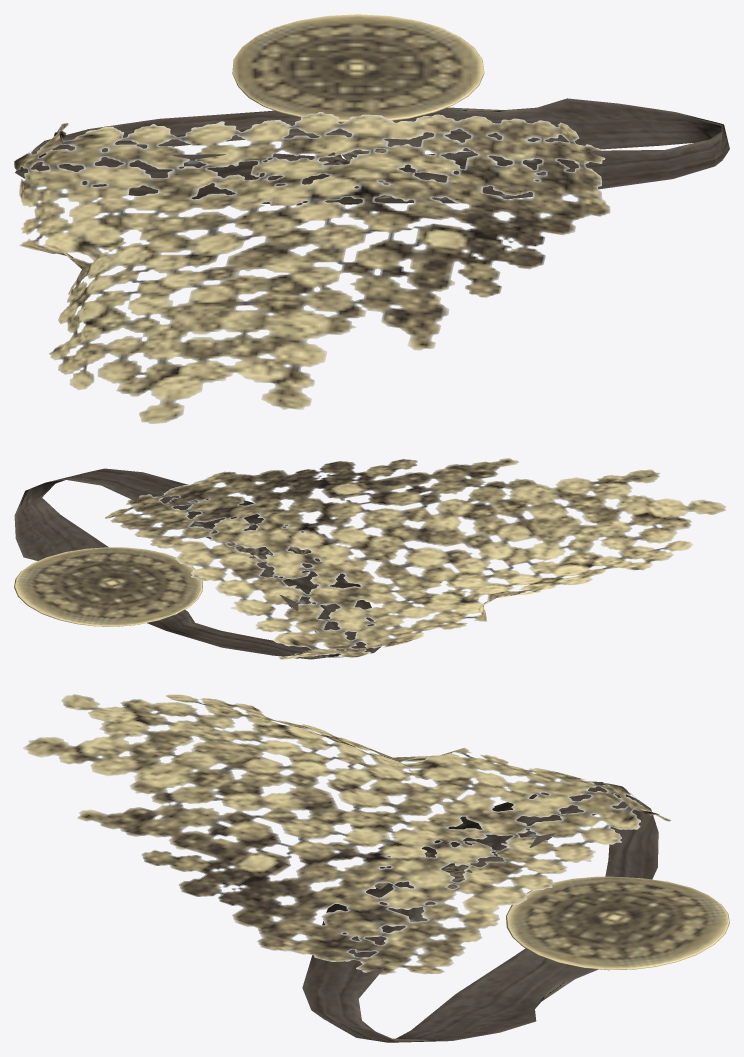
Rendered from OracleBelt_Ground.fbx.
3 views of the same model, one above another, from view 1: azimuth 30°, elevation 25°; view 2: azimuth 150°, elevation 25°; view 3: azimuth 270°, elevation 25° (orthographic). The views are drawn at different scales.
Visible parts, largest first — view 1: Belt; view 2: Belt; view 3: Belt.
Part boxes in pixels (left/top/right/bottom): Belt: left=14, top=14, right=729, bottom=423; Belt: left=14, top=458, right=726, bottom=659; Belt: left=23, top=694, right=729, bottom=1042.
Size of the model in its own units: 0.2672 by 0.0172 by 0.2421.
